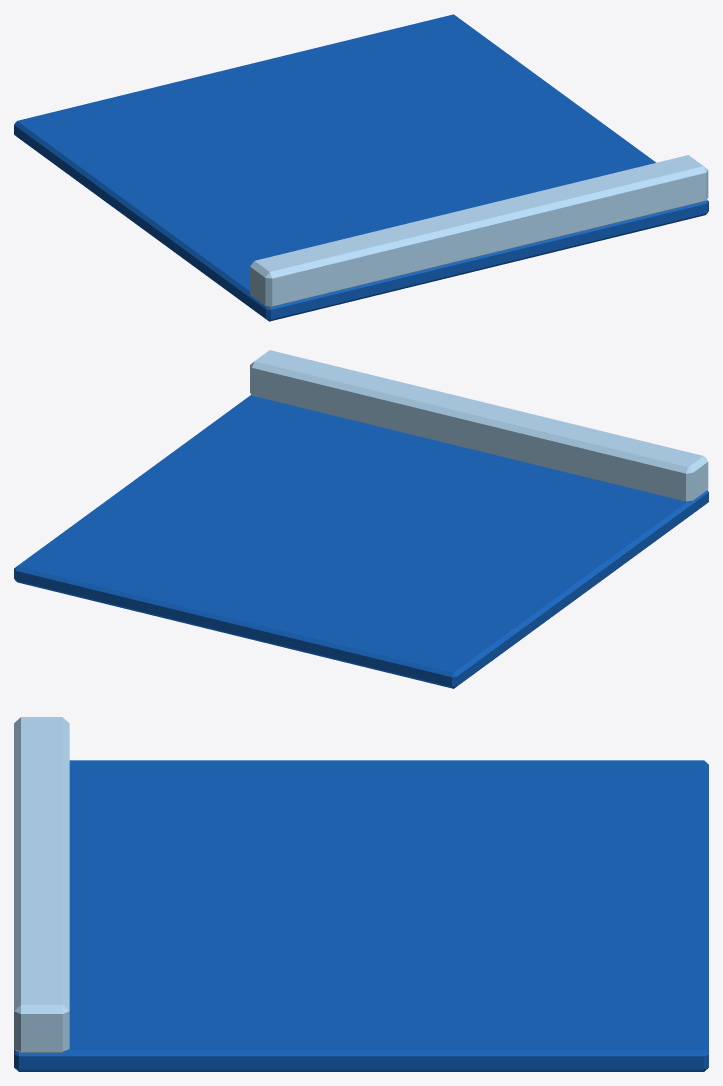
The model's file is Tile_Canal_OneBank_v001.fbx.
The picture shows the model from 3 angles, top to bottom: view 1: azimuth 30°, elevation 25°; view 2: azimuth 150°, elevation 25°; view 3: azimuth 270°, elevation 25°; orthographic projection. The views are drawn at different scales.
Parts seen in each view (by area): view 1: Tile, Bank; view 2: Tile, Bank; view 3: Tile, Bank.
Boxes of the visible parts, x1,y1,x2,y2 form: Tile: [14, 14, 708, 321]; Bank: [250, 155, 708, 307]; Tile: [14, 395, 708, 688]; Bank: [250, 350, 708, 501]; Tile: [14, 760, 708, 1071]; Bank: [14, 717, 69, 1052].
Size of the model in its own units: 100 by 10.5 by 100.
